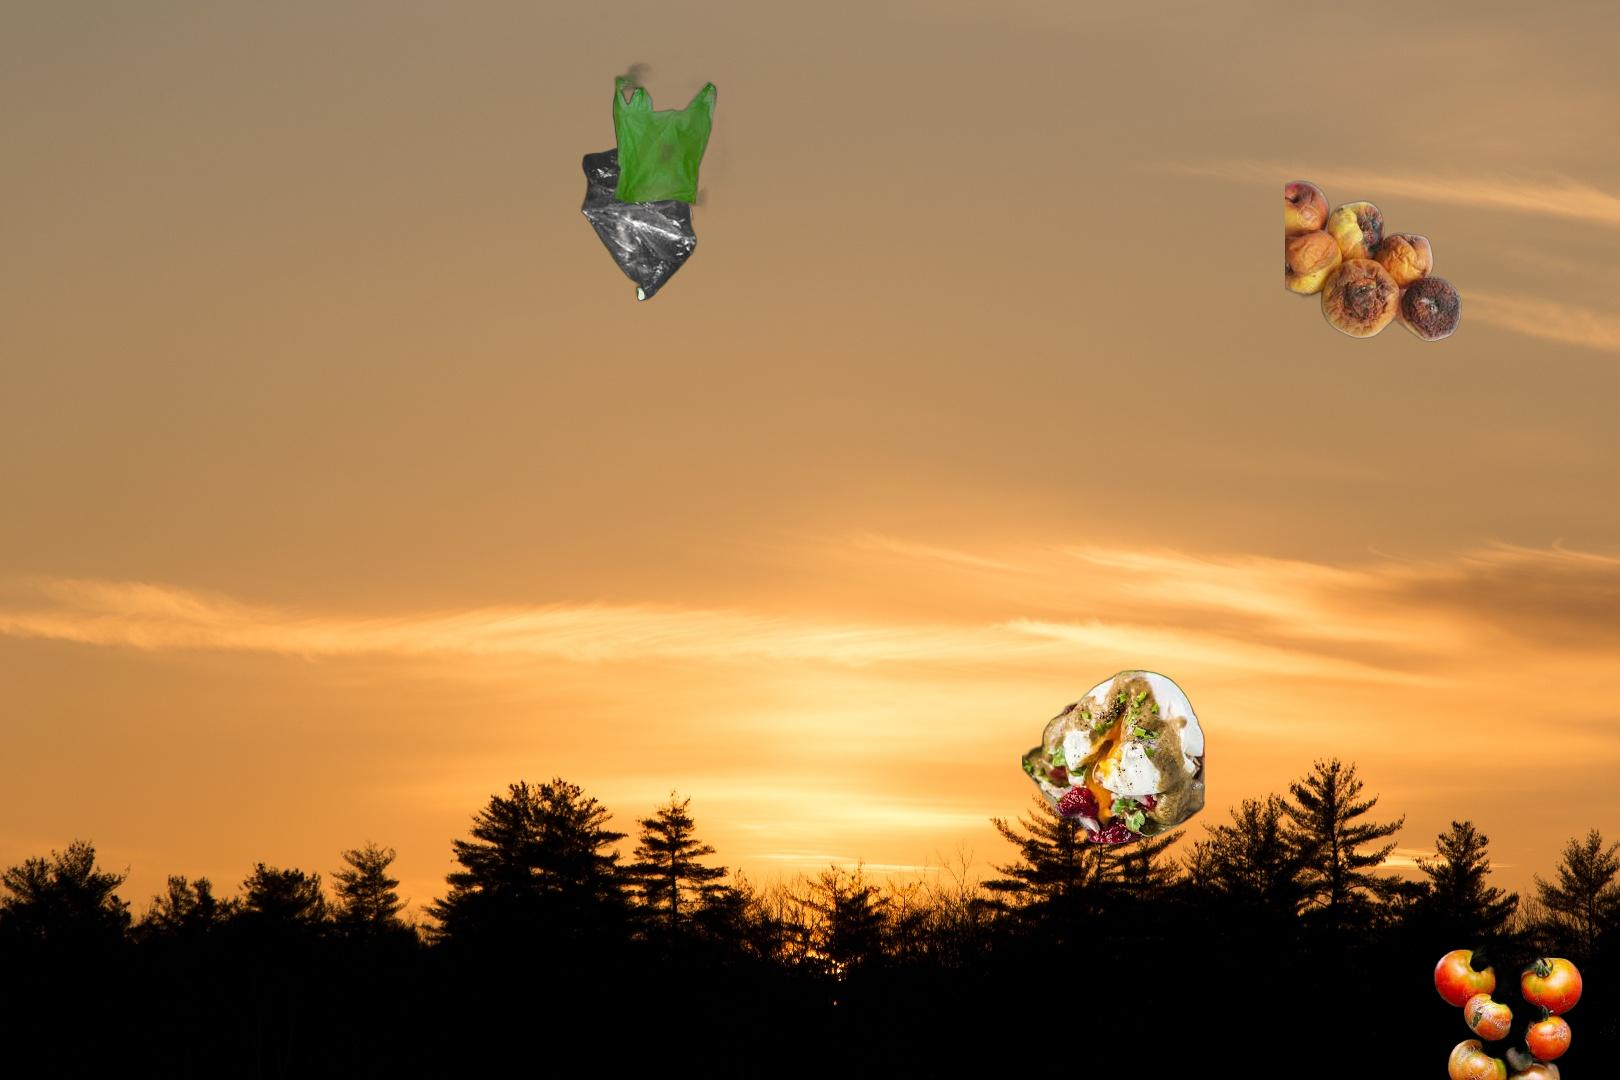biological: (1022, 667, 1205, 847), (1285, 178, 1465, 344), (1431, 940, 1586, 1080)
plastic-bag: (579, 49, 739, 304)
